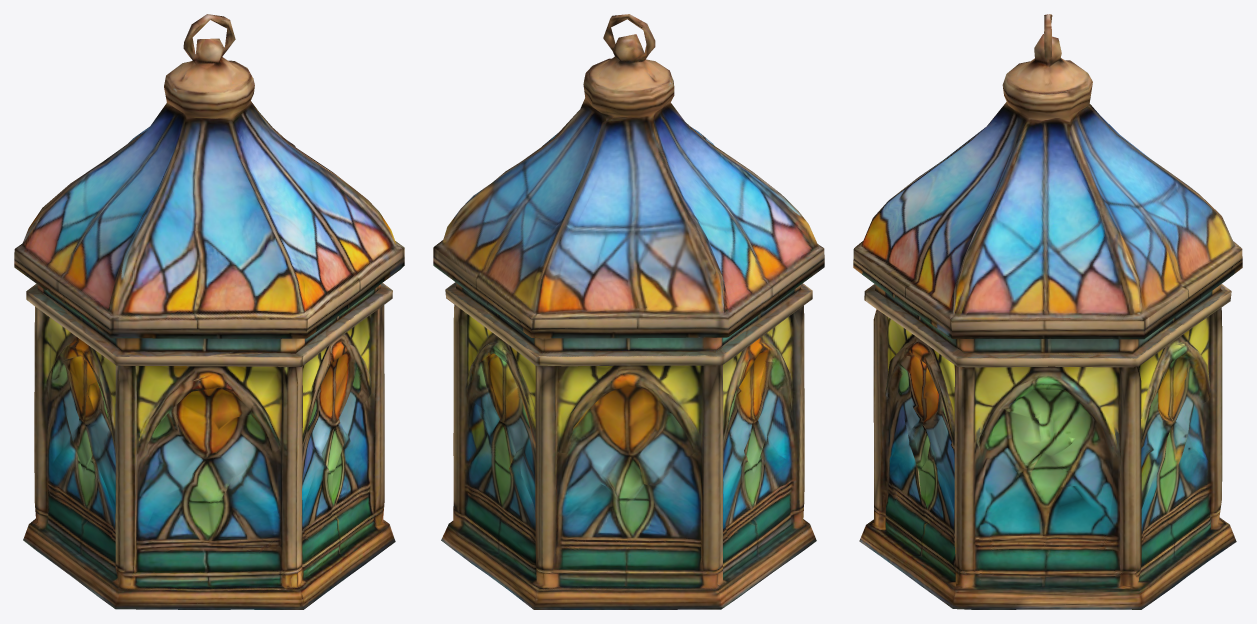
File: testDoorway.glb
3 views of the same model, side by side, from view 1: azimuth 30°, elevation 25°; view 2: azimuth 150°, elevation 25°; view 3: azimuth 270°, elevation 25° (orthographic).
Parts seen in each view (by area): view 1: Mesh_0; view 2: Mesh_0; view 3: Mesh_0.
Part boxes in pixels (box(x1,y1,x2,y2)): Mesh_0: box(14, 14, 404, 609); Mesh_0: box(433, 14, 824, 609); Mesh_0: box(853, 14, 1242, 609).
Size of the model in its own units: 5.85 by 10 by 6.7.
Materials: 1 (1 with a texture image).
